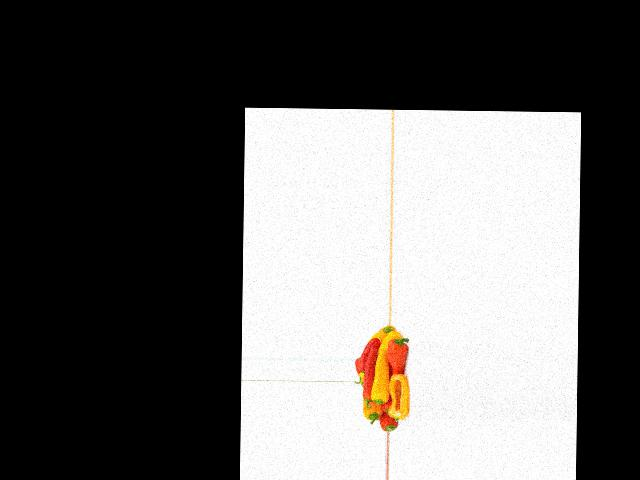bell_pepper: (376, 401, 397, 432)
